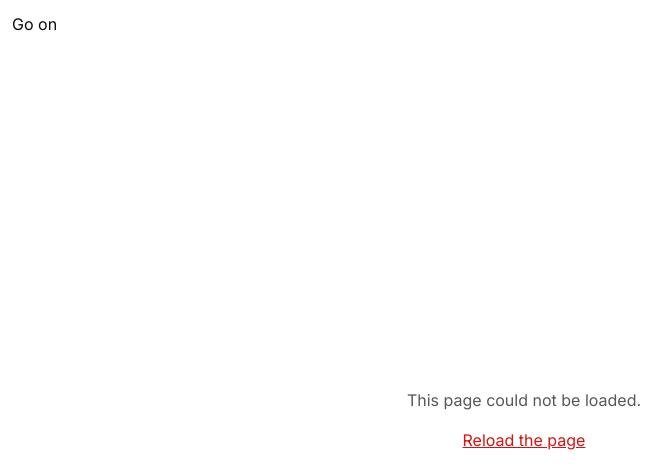
Lazy legal routes › do not carry one page's load failure over to the next lazy page
The width and height of the screenshot is (658, 467).
expect the text "This page could not be loaded." is shown: met, box [407, 388, 641, 412]
Click the link "Go on": (35,24) [12, 14, 57, 34]
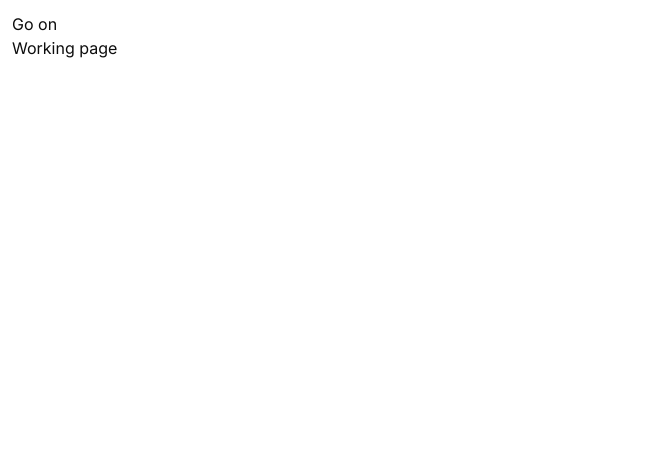
expect the text "Working page" is shown: met, box [12, 38, 117, 58]
expect the text "This page could not be loaded." is gone: met
